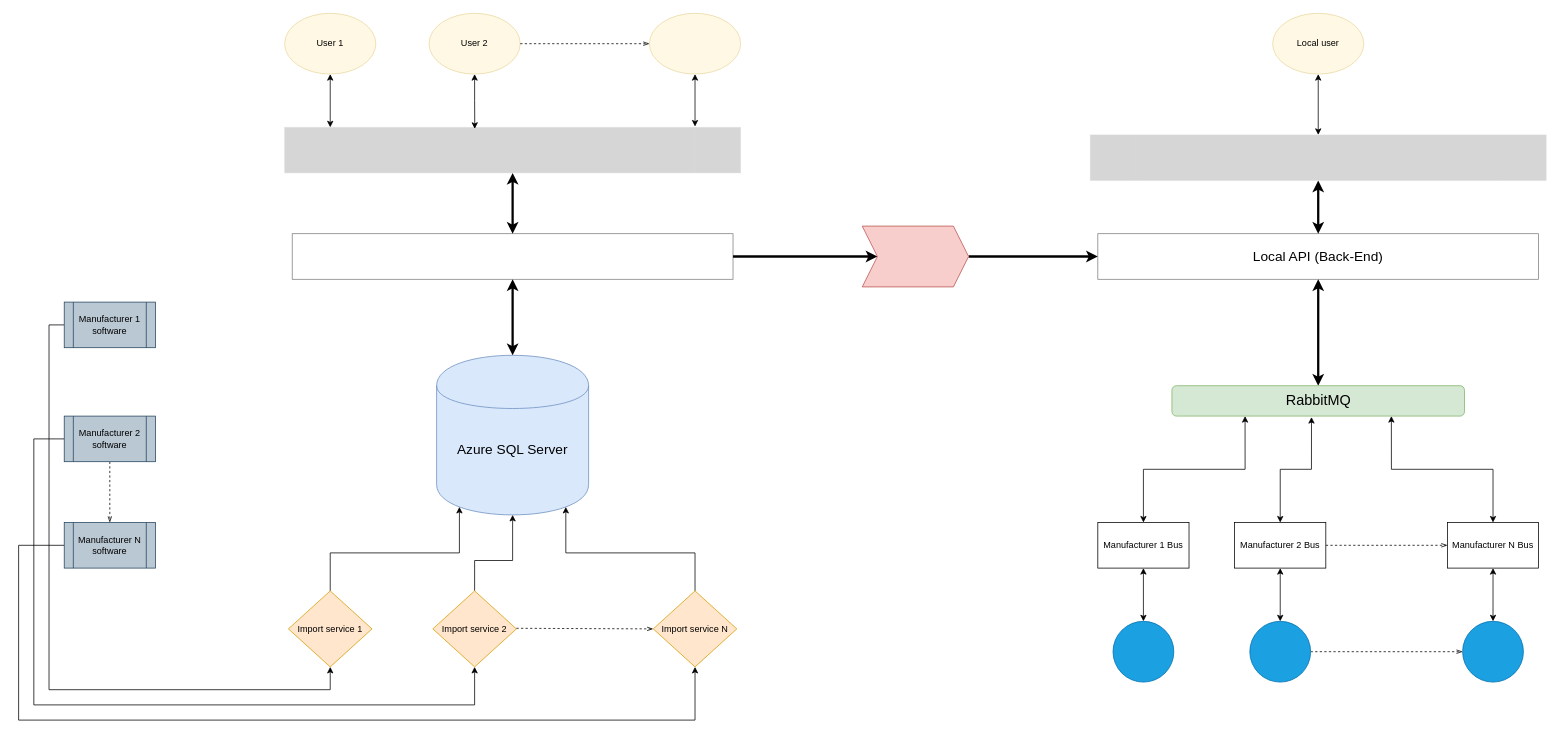
This 1560x739 diagram has some shape labels left out. Each missing label, with the centre of its shape:
"Cloud API (Back-End)" belongs at (512,256).
"Cloud Front-End Client" belongs at (512,150).
"Config files" belongs at (915,256).
"Local Front-End Client" belongs at (1317,157).
"Manufacturer 1 Hardware" belongs at (1143,651).
"Manufacturer 2 Hardware" belongs at (1280,651).
"Manufacturer N Hardware" belongs at (1492,651).
"User N" belongs at (695,43).
